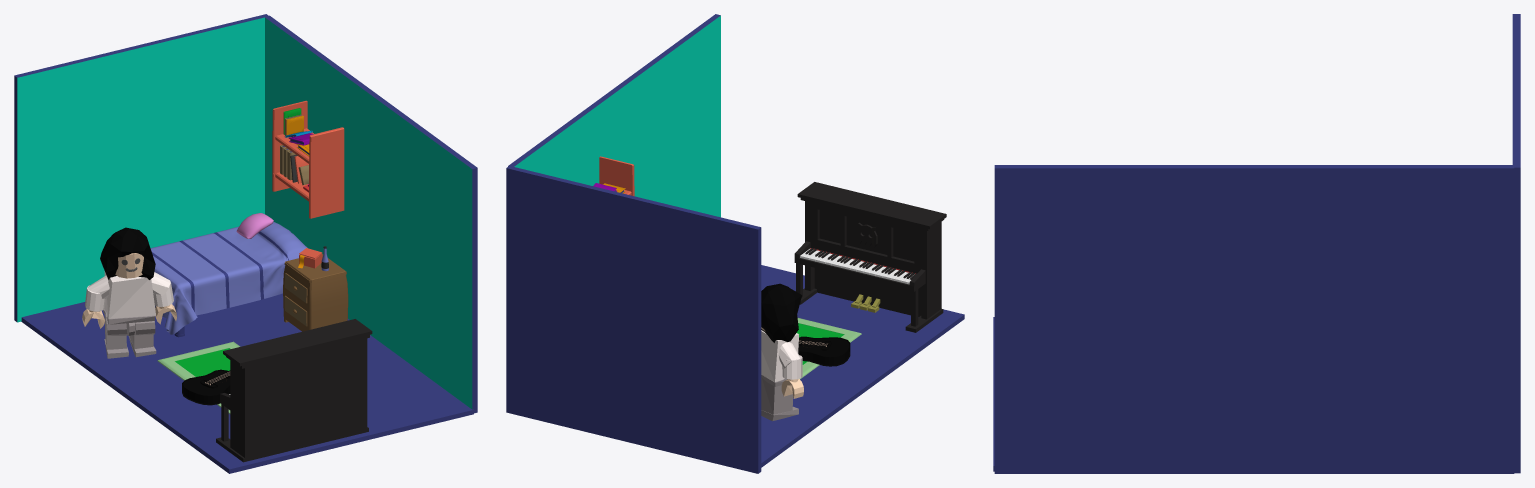
The model's file is room.gltf.
The picture shows the model from 3 angles, left to right: view 1: azimuth 30°, elevation 25°; view 2: azimuth 150°, elevation 25°; view 3: azimuth 270°, elevation 25°; orthographic projection. The views are drawn at different scales.
Visible parts, largest first — view 1: Pared, piano-shell, cama, Estanteria, Mesilla, Object_5.001, Object_4.001, Libros, Icosphere.001, Alfombra, Object_2.001, Plane_brown_0.002; view 2: Pared, piano-shell, Icosphere.001, Object_5.001, keys, key-support, Object_4.001, Estanteria, Alfombra, support, Plane_brown_0.002; view 3: Pared.
Part boxes in pixels (left/top/right/bottom): Pared: left=14, top=14, right=477, bottom=473; piano-shell: left=223, top=319, right=372, bottom=462; cama: left=150, top=213, right=307, bottom=337; Estanteria: left=272, top=100, right=344, bottom=218; Mesilla: left=283, top=254, right=348, bottom=331; Object_5.001: left=85, top=271, right=173, bottom=318; Object_4.001: left=103, top=309, right=156, bottom=358; Libros: left=280, top=108, right=313, bottom=192; Icosphere.001: left=100, top=227, right=155, bottom=279; Alfombra: left=157, top=341, right=240, bottom=413; Object_2.001: left=82, top=253, right=176, bottom=328; Plane_brown_0.002: left=183, top=371, right=230, bottom=395; Pared: left=506, top=14, right=964, bottom=473; piano-shell: left=797, top=182, right=946, bottom=323; Icosphere.001: left=761, top=283, right=801, bottom=342; Object_5.001: left=761, top=330, right=802, bottom=381; keys: left=800, top=248, right=916, bottom=284; key-support: left=794, top=241, right=925, bottom=291; Object_4.001: left=761, top=374, right=798, bottom=421; Estanteria: left=599, top=156, right=634, bottom=196; Alfombra: left=796, top=318, right=861, bottom=379; support: left=796, top=263, right=928, bottom=332; Plane_brown_0.002: left=798, top=337, right=849, bottom=357; Pared: left=993, top=14, right=1520, bottom=473.
Size of the model in its own units: 197 by 182 by 284.
32 materials, 3 textured.
